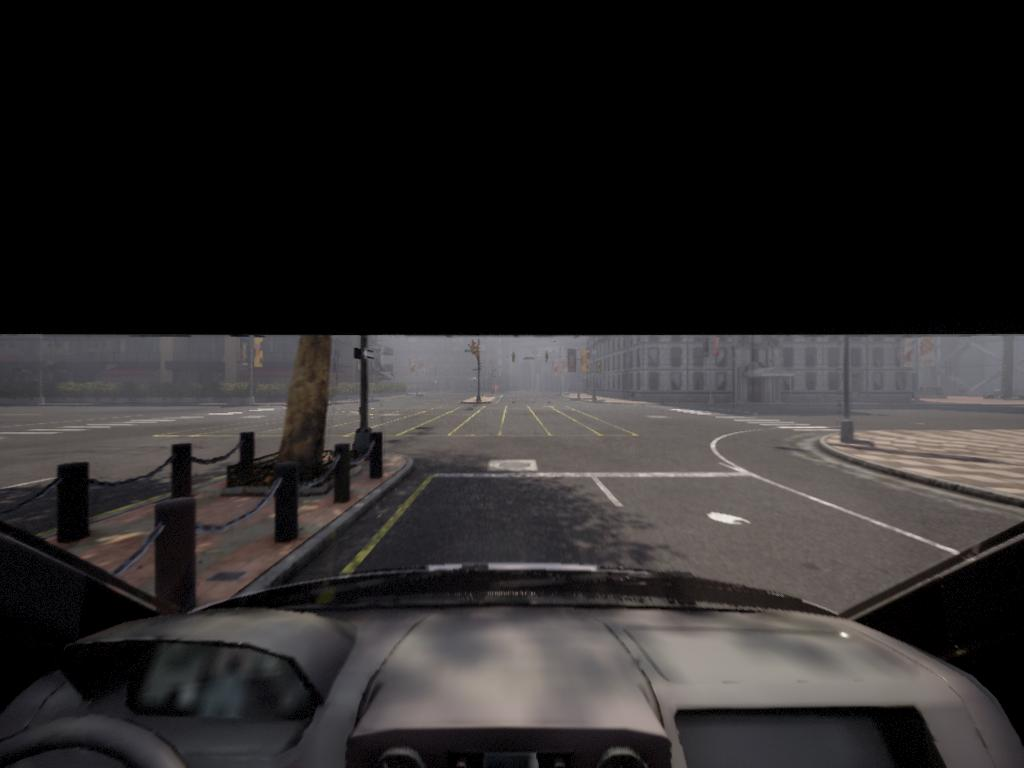traffic_light: (599, 360, 605, 376), (511, 353, 518, 364), (546, 352, 550, 365)
